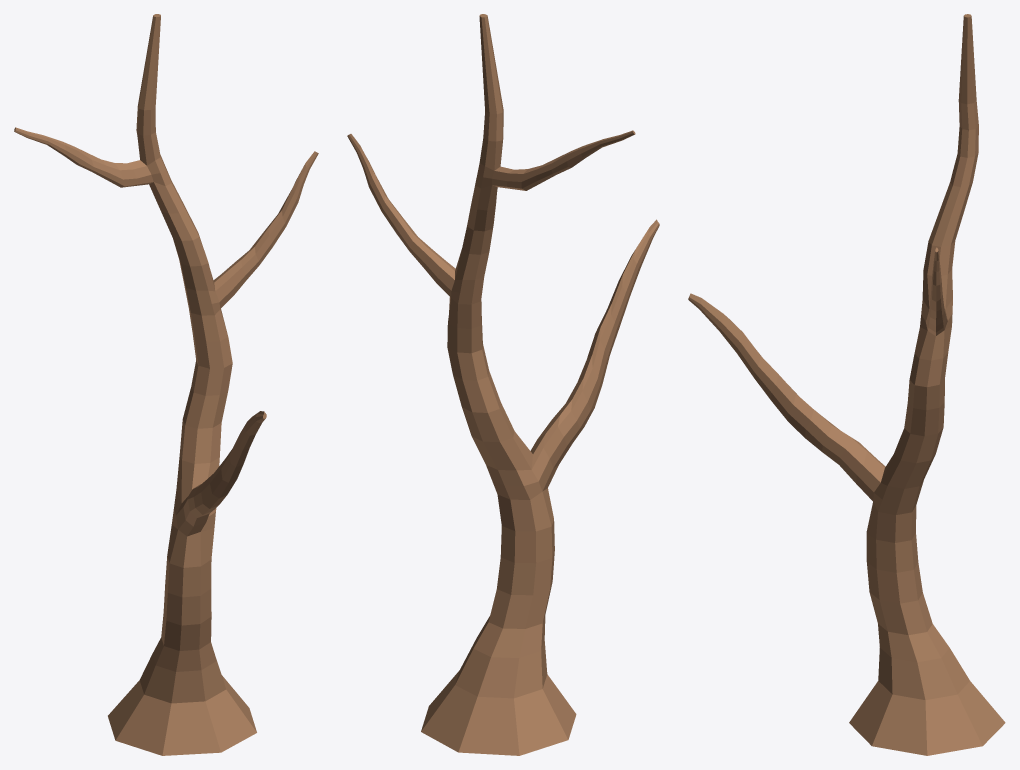
File: tree2trunk.fbx
The picture shows the model from 3 angles, left to right: view 1: azimuth 30°, elevation 25°; view 2: azimuth 150°, elevation 25°; view 3: azimuth 270°, elevation 25°; orthographic projection. The views are drawn at different scales.
Parts seen in each view (by area): view 1: polySurface1; view 2: polySurface1; view 3: polySurface1.
Boxes of the visible parts, x1,y1,x2,y2 form: polySurface1: [14, 14, 318, 755]; polySurface1: [347, 14, 659, 755]; polySurface1: [688, 14, 1005, 755].
Size of the model in its own units: 11.62 by 26.58 by 10.86.
